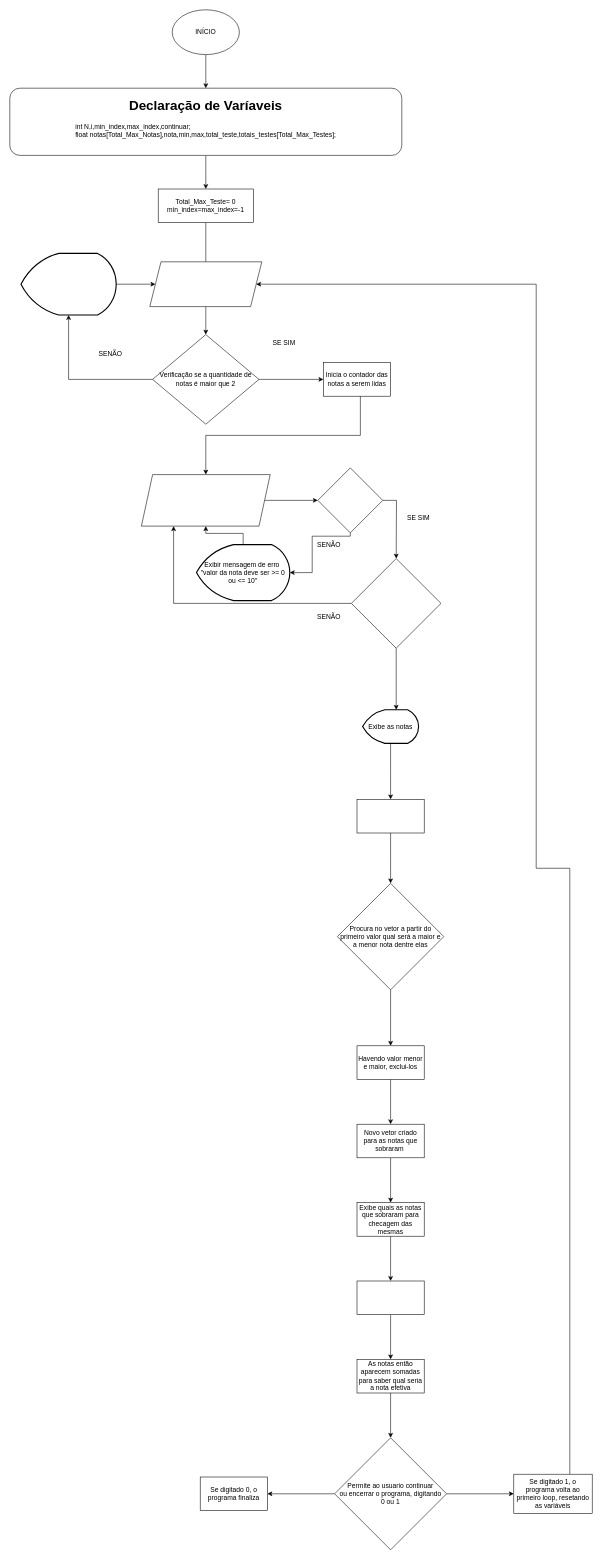
The diagram is 602 pixels wide and 1560 high, and some of its shapes have lost their labels. Here are the shapes that lost their labels. From the top down, the centre of each, then its label:
the point at 68,284: Exibir mensagem de erro "quantidade deve ser maior que 2"
the point at 205,284: Solicitar a quantidade de Notas
the point at 205,500: Pede ao usuário as notas que serão usadas no vetor
the point at 350,500: Verifica nota >= 0 e <=10
the point at 396,603: Verifica se a nota dos vetores acabaram
the point at 390,816: min=max=notas[0]
the point at 390,1297: Realiza a soma destas
